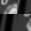mirror: (0, 0, 17, 14)
